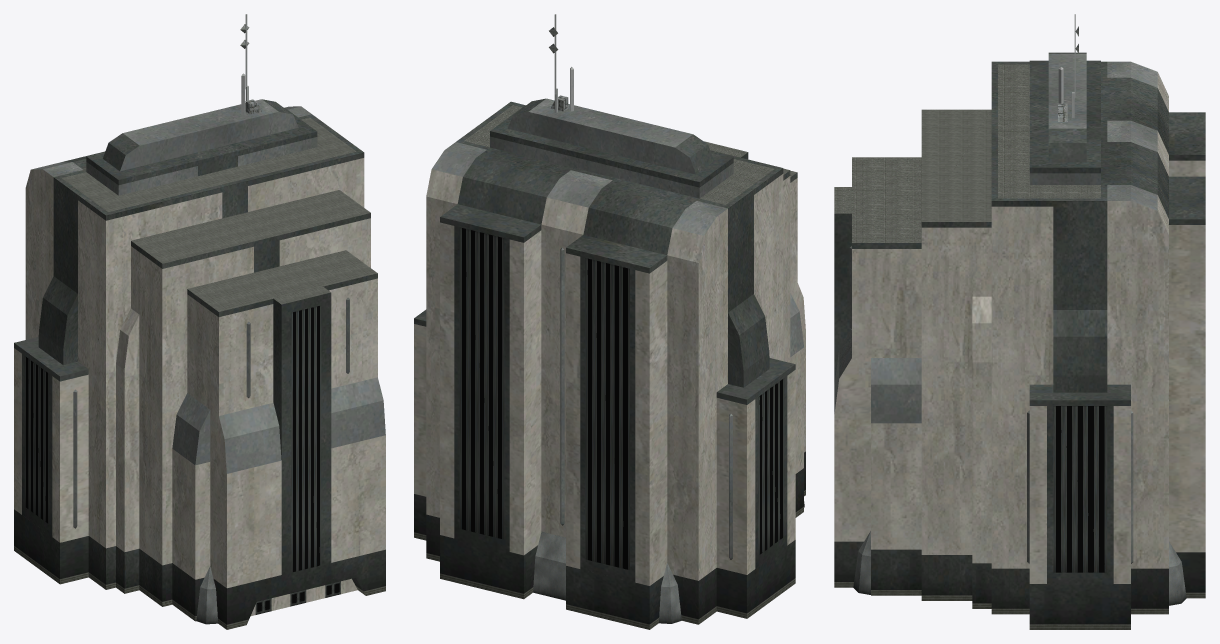
File: thm_corl_imprv_building_s04_r0_mesh_l2.fbx
3 renders of one model, left to right at view 1: azimuth 30°, elevation 25°; view 2: azimuth 150°, elevation 25°; view 3: azimuth 270°, elevation 25°, orthographic. The views are drawn at different scales.
Visible parts, largest first — view 1: mesh_node; view 2: mesh_node; view 3: mesh_node.
Boxes of the visible parts, box(x1,y1,x2,y2) form: mesh_node: box(14, 14, 385, 629); mesh_node: box(414, 14, 805, 629); mesh_node: box(834, 14, 1205, 629).
Bounding box in the file's own units: 63.59 × 97 × 58.59.
